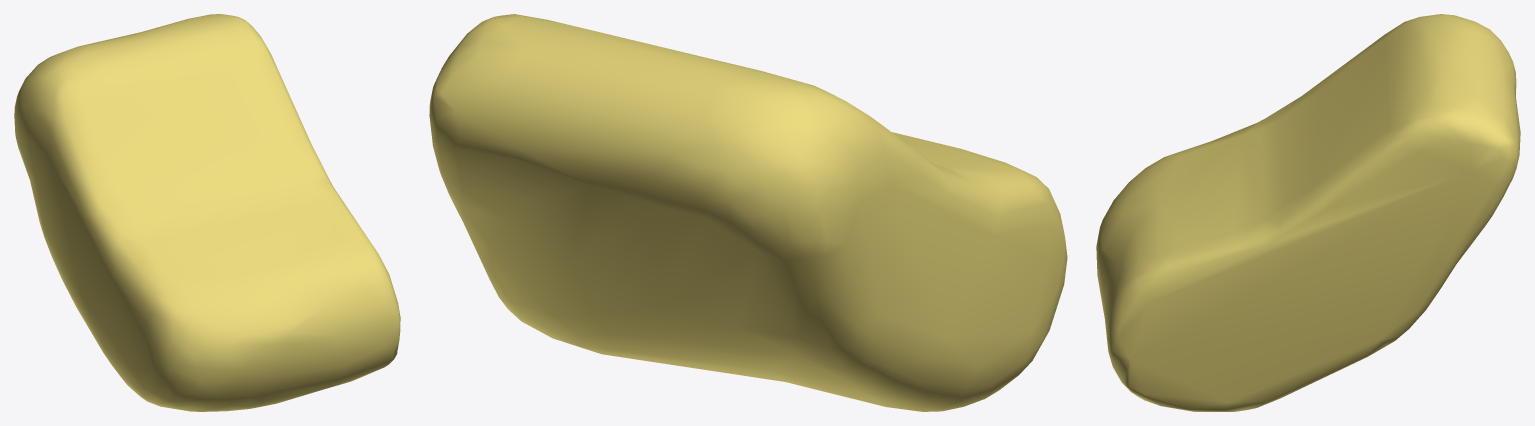
Rendered from optic-chiasm-r.glb.
The picture shows the model from 3 angles, left to right: view 1: azimuth 30°, elevation 25°; view 2: azimuth 150°, elevation 25°; view 3: azimuth 270°, elevation 25°; orthographic projection. The views are drawn at different scales.
Visible parts, largest first — view 1: Optic chiasm.r; view 2: Optic chiasm.r; view 3: Optic chiasm.r.
Boxes of the visible parts, bbox=[...] form: Optic chiasm.r: bbox=[14, 14, 400, 411]; Optic chiasm.r: bbox=[429, 14, 1067, 411]; Optic chiasm.r: bbox=[1096, 14, 1520, 411].
Bounding box in the file's own units: 0.00711 × 0.00785 × 0.01.
